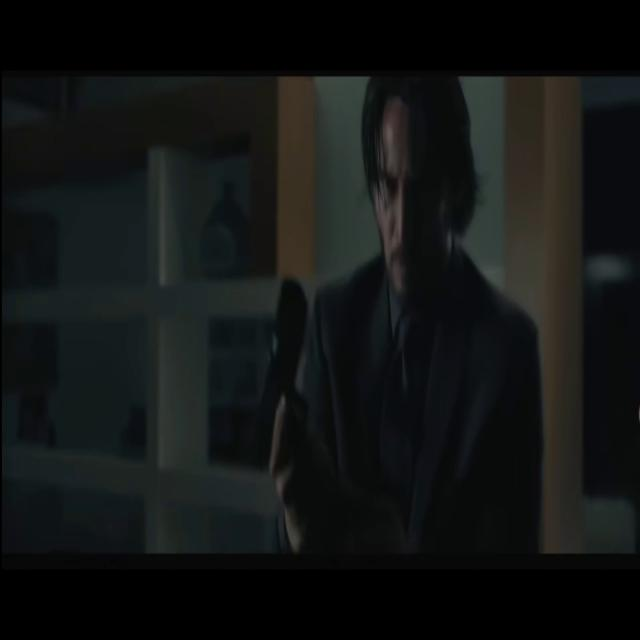weapons: (241, 242, 336, 528)
